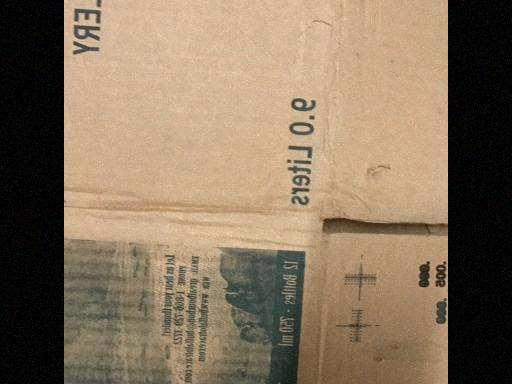cardboard: (74, 5, 445, 384)
